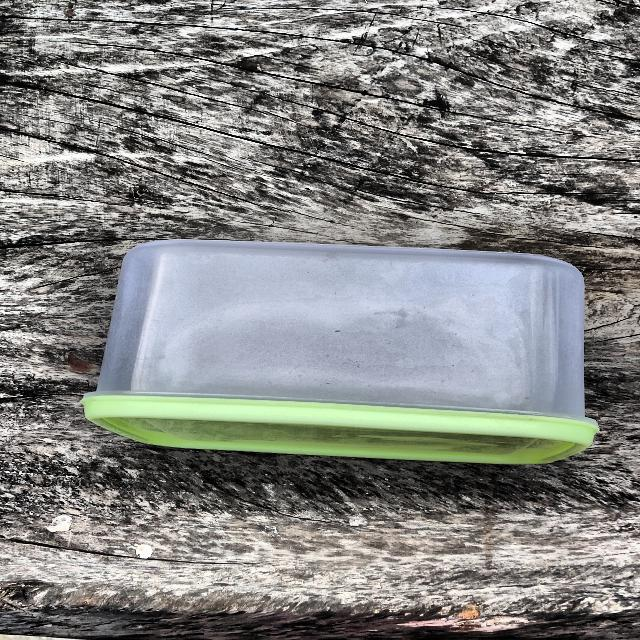plastic container: (49, 216, 620, 478)
